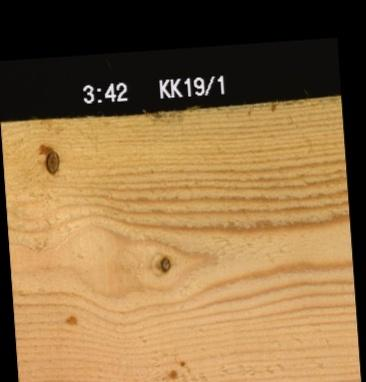dry_knot: (43, 149, 59, 173), (157, 254, 171, 272)
